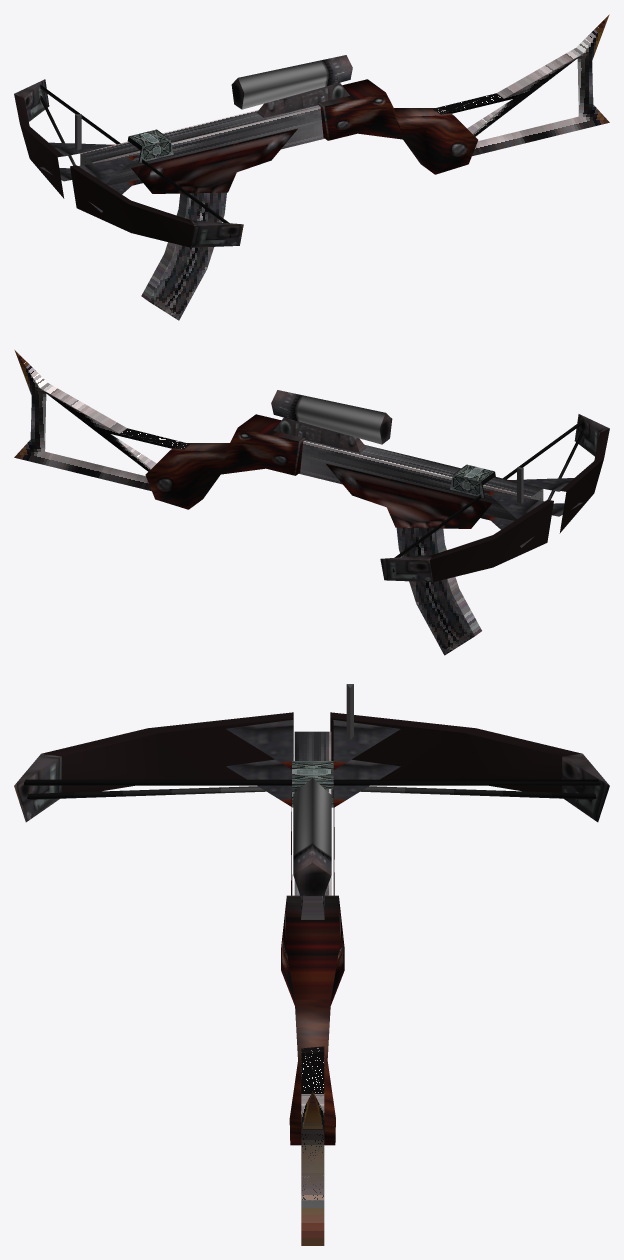
Rendered from crossbow-half-life-original.glb.
3 views of the same model, one above another, from view 1: azimuth 30°, elevation 25°; view 2: azimuth 150°, elevation 25°; view 3: azimuth 270°, elevation 25° (orthographic). The views are drawn at different scales.
Bounding box in the file's own units: 81.74 × 32.21 × 51.45.
10 materials, 10 textured.
